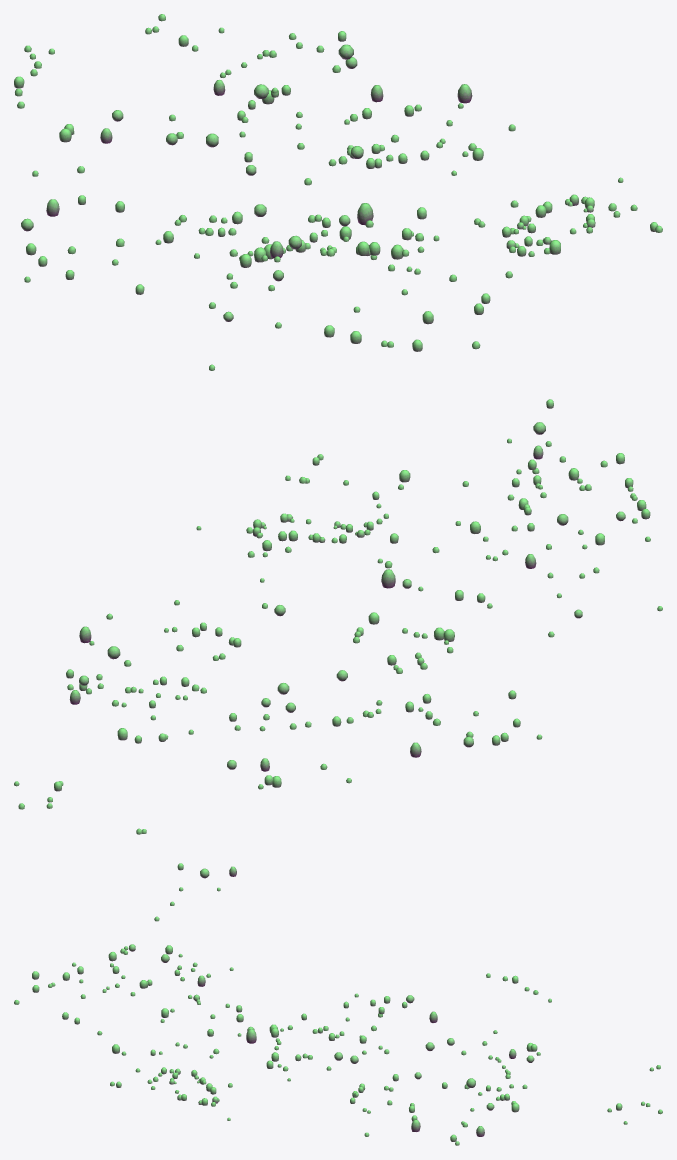
File: plants.glb
3 views of the same model, one above another, from view 1: azimuth 30°, elevation 25°; view 2: azimuth 150°, elevation 25°; view 3: azimuth 270°, elevation 25° (orthographic). The views are drawn at different scales.
Visible parts, largest first — view 1: Plants.002, Plants.003, Plants.004, Plants.001, Plants.005; view 2: Plants.002, Plants.004, Plants.003, Plants.001, Plants.005; view 3: Plants.002, Plants.004, Plants.003, Plants.001, Plants.005.
Boxes of the visible parts, bbox=[...] form: Plants.002: bbox=[209, 84, 490, 370]; Plants.003: bbox=[220, 31, 515, 168]; Plants.004: bbox=[24, 80, 373, 308]; Plants.001: bbox=[415, 143, 662, 278]; Plants.005: bbox=[14, 48, 256, 231]; Plants.002: bbox=[432, 399, 662, 618]; Plants.004: bbox=[336, 445, 561, 745]; Plants.003: bbox=[66, 600, 285, 743]; Plants.001: bbox=[196, 454, 468, 582]; Plants.005: bbox=[227, 683, 473, 789]; Plants.002: bbox=[14, 863, 220, 1024]; Plants.004: bbox=[225, 866, 390, 1063]; Plants.003: bbox=[326, 1052, 527, 1145]; Plants.001: bbox=[97, 1029, 290, 1120]; Plants.005: bbox=[402, 973, 551, 1079].
Size of the model in its own units: 20.44 by 10.38 by 35.41.
Materials: 6 (6 with a texture image).
